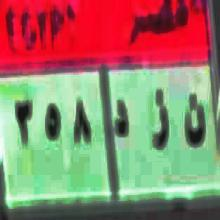3: (11, 88, 34, 158)
5: (44, 101, 61, 152)
8: (73, 93, 92, 159)
daal: (114, 93, 130, 154)
noon: (182, 85, 209, 161)
zay: (150, 86, 172, 171)
